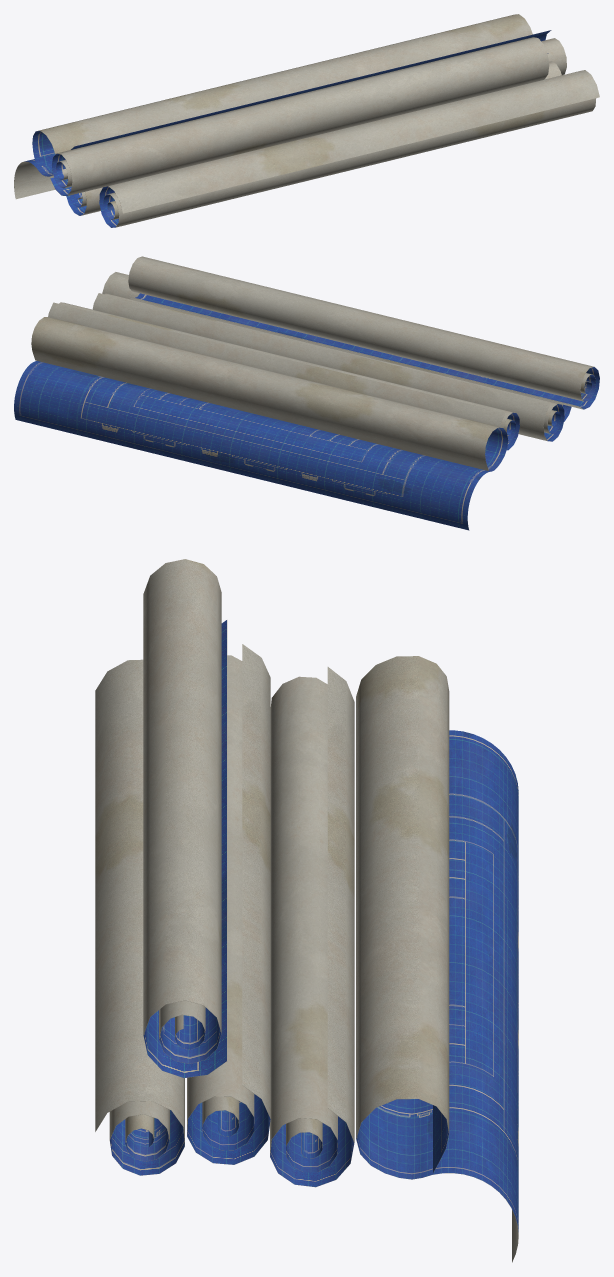
File: Blueprints05.FBX
3 renders of one model, top to bottom at view 1: azimuth 30°, elevation 25°; view 2: azimuth 150°, elevation 25°; view 3: azimuth 270°, elevation 25°, orthographic. The views are drawn at different scales.
Visible parts, largest first — view 1: Blueprints05; view 2: Blueprints05; view 3: Blueprints05.
Part boxes in pixels (x1=…): Blueprints05: x1=14, y1=14, x2=599, y2=227; Blueprints05: x1=14, y1=256, x2=599, y2=530; Blueprints05: x1=95, y1=559, x2=518, y2=1262.
Bounding box in the file's own units: 109 × 23.18 × 39.79.
